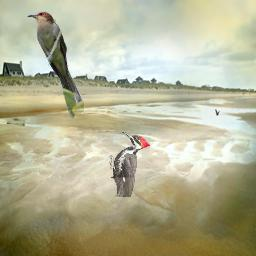Cuckoo: (27, 11, 84, 119)
Woodpecker: (109, 130, 150, 197)
